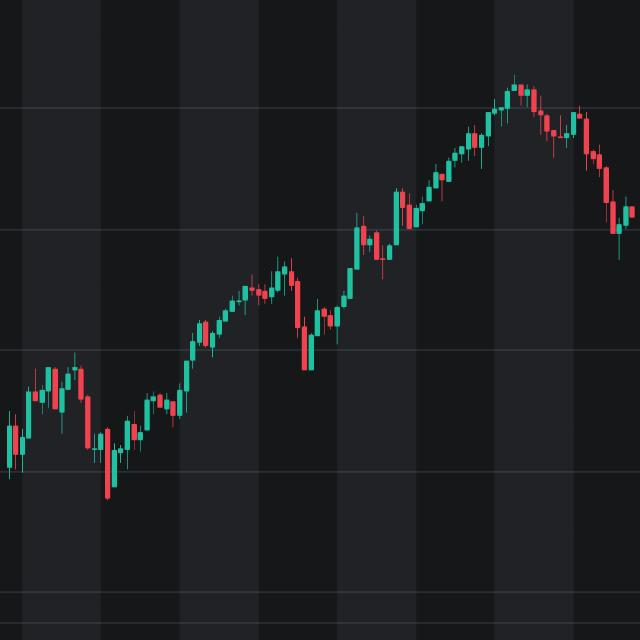Channel-up: (86, 0, 598, 557)
